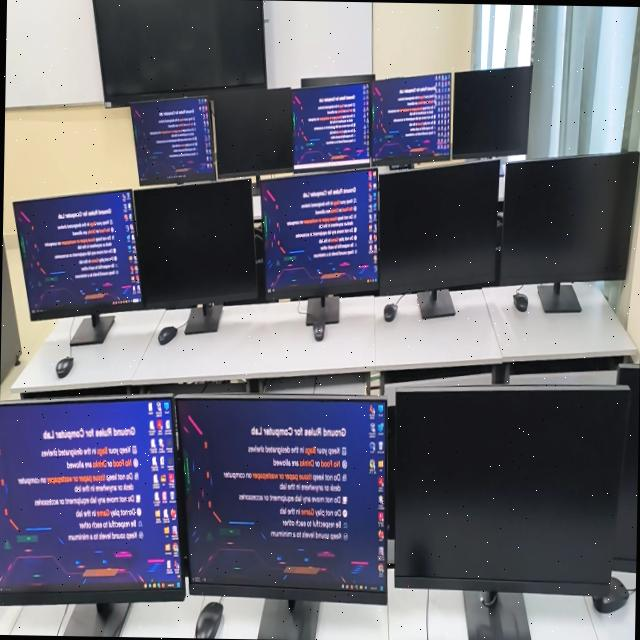Digital board: (92, 0, 265, 105)
Monitor: (389, 384, 628, 595), (174, 396, 385, 593), (0, 397, 183, 601), (500, 150, 638, 284), (13, 189, 141, 318), (132, 177, 257, 307), (378, 160, 497, 293), (260, 168, 377, 299), (370, 72, 450, 165), (130, 95, 214, 182), (211, 86, 292, 176), (452, 64, 531, 156), (291, 81, 369, 167), (612, 363, 639, 570), (300, 73, 373, 86)
Mouse: (591, 575, 628, 611), (194, 600, 222, 638), (55, 355, 72, 377), (157, 325, 176, 343), (512, 290, 527, 311), (382, 303, 396, 320), (312, 320, 323, 340)
